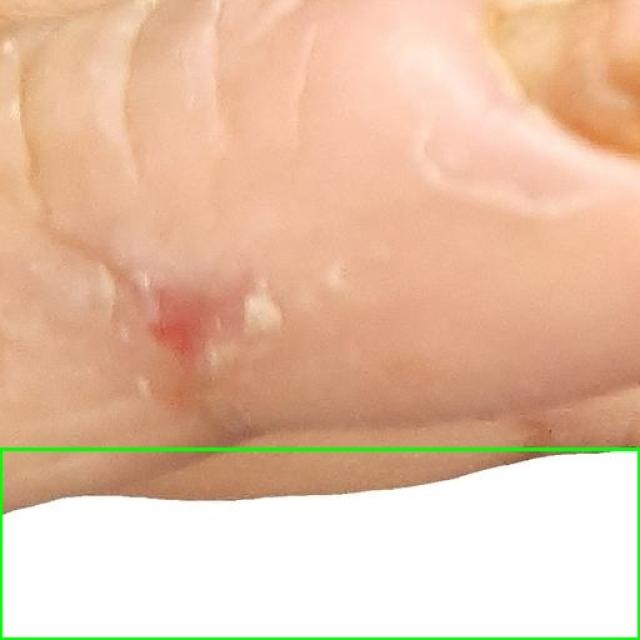Contact Dermatitis: (0, 449, 639, 639)
